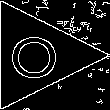O_N: (12, 30, 61, 80)
